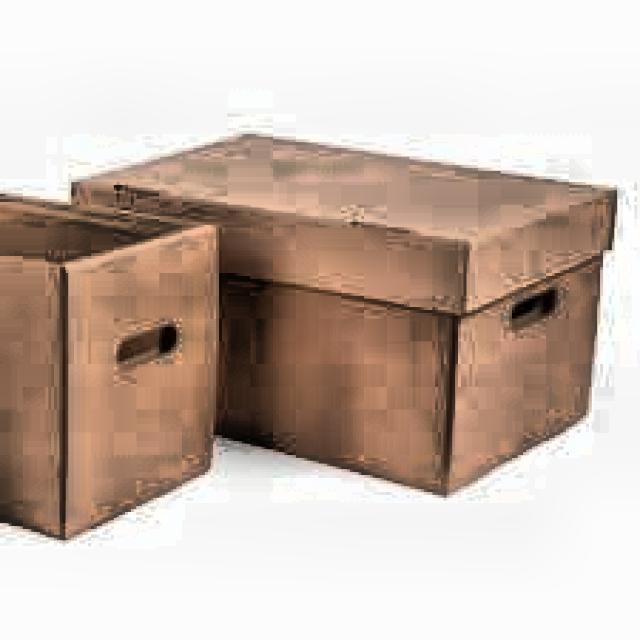cardboard: (68, 128, 618, 498), (0, 188, 222, 540)
